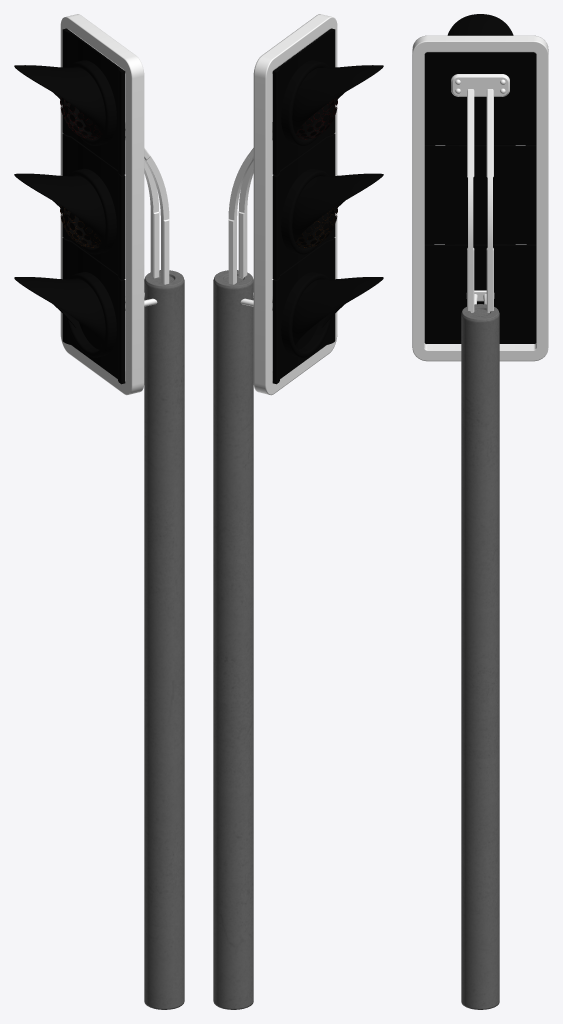
Rendered from Traffic Light_01.fbx.
The picture shows the model from 3 angles, left to right: view 1: azimuth 30°, elevation 25°; view 2: azimuth 150°, elevation 25°; view 3: azimuth 270°, elevation 25°; orthographic projection. The views are drawn at different scales.
Visible parts, largest first — view 1: Light_Red; view 2: Light_Red; view 3: Light_Red.
Part boxes in pixels (x1,y1,x2,y2): Light_Red: [14, 14, 184, 1009]; Light_Red: [213, 14, 383, 1009]; Light_Red: [412, 14, 548, 1009].
Size of the model in its own units: 63.56 by 83.1 by 482.
